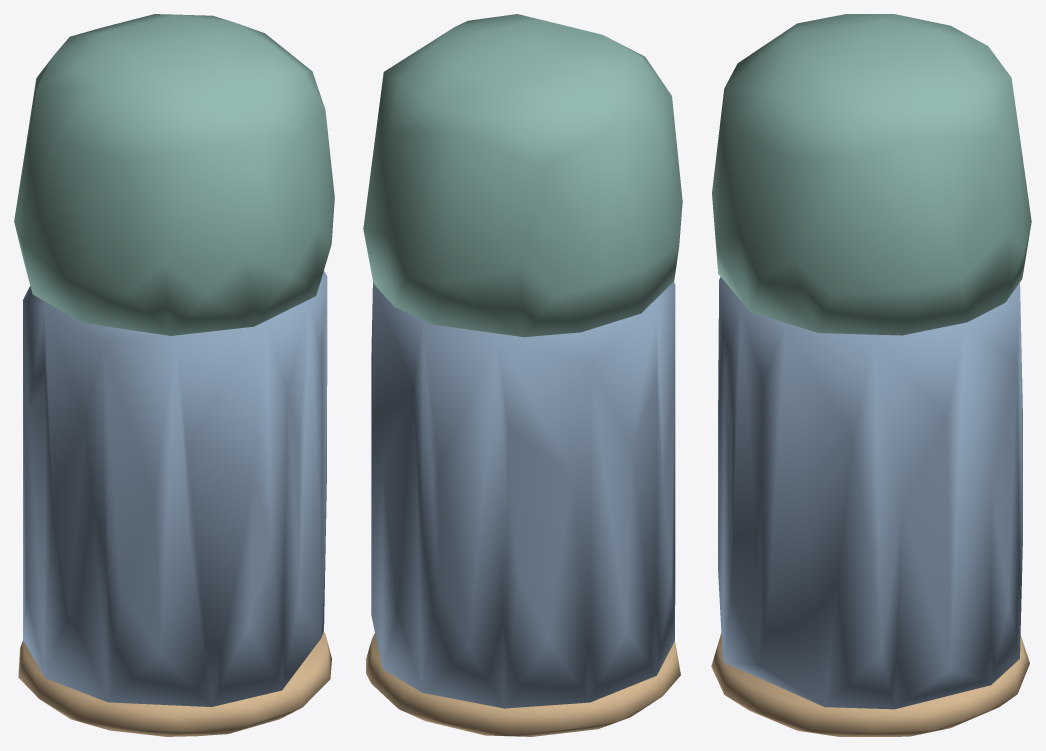
The picture shows the model from 3 angles, left to right: view 1: azimuth 30°, elevation 25°; view 2: azimuth 150°, elevation 25°; view 3: azimuth 270°, elevation 25°; orthographic projection.
Size of the model in its own units: 0.8443 by 1.87 by 0.8487.
